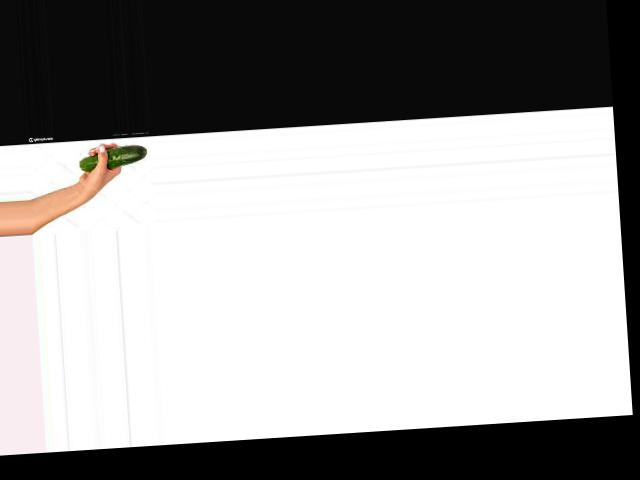cucumber: (79, 143, 148, 172)
